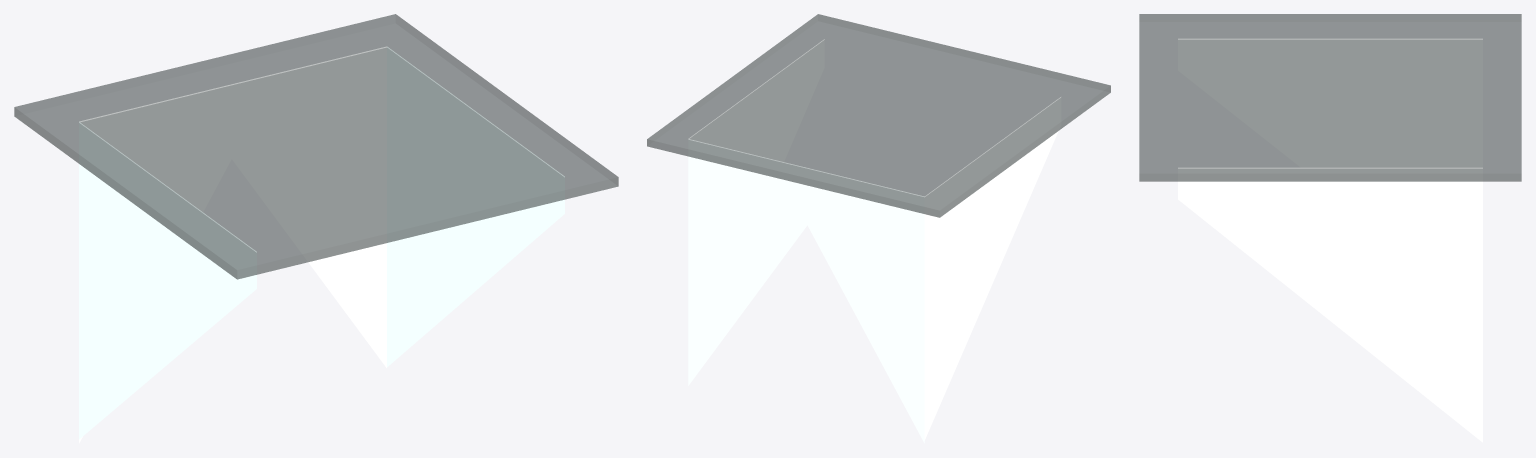
File: glas.dae
The picture shows the model from 3 angles, left to right: view 1: azimuth 30°, elevation 25°; view 2: azimuth 150°, elevation 25°; view 3: azimuth 270°, elevation 25°; orthographic projection. The views are drawn at different scales.
Visible parts, largest first — view 1: Cube.11, Cube.9; view 2: Cube.11, Cube.9; view 3: Cube.11, Cube.9.
Boxes of the visible parts, bbox=[...] form: Cube.11: bbox=[79, 46, 564, 443]; Cube.9: bbox=[14, 14, 618, 279]; Cube.11: bbox=[688, 39, 1061, 443]; Cube.9: bbox=[647, 14, 1110, 217]; Cube.11: bbox=[1178, 38, 1482, 442]; Cube.9: bbox=[1139, 14, 1521, 181].
Bounding box in the file's own units: 248 × 205 × 251.
